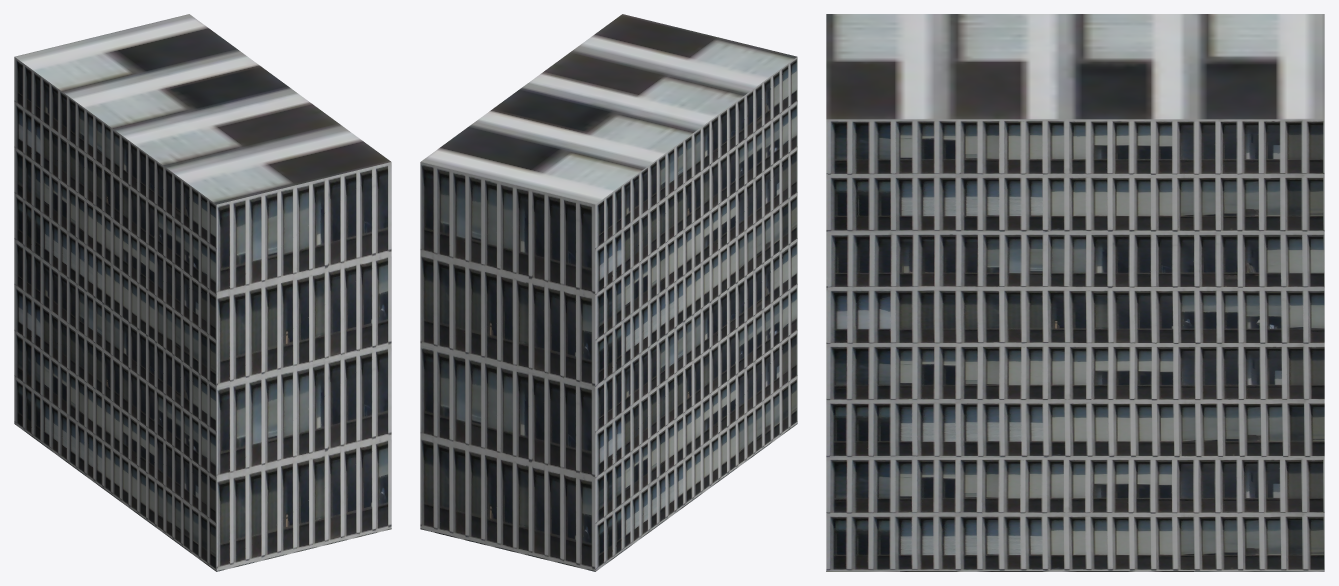
File: 1x2_mbuilding.dae
3 views of the same model, side by side, from view 1: azimuth 30°, elevation 25°; view 2: azimuth 150°, elevation 25°; view 3: azimuth 270°, elevation 25° (orthographic). The views are drawn at different scales.
Parts seen in each view (by area): view 1: pCube1; view 2: pCube1; view 3: pCube1.
Boxes of the visible parts, x1,y1,x2,y2 form: pCube1: (14,14,391,571); pCube1: (420,14,797,571); pCube1: (826,14,1324,571).
Size of the model in its own units: 100 by 200 by 200.
